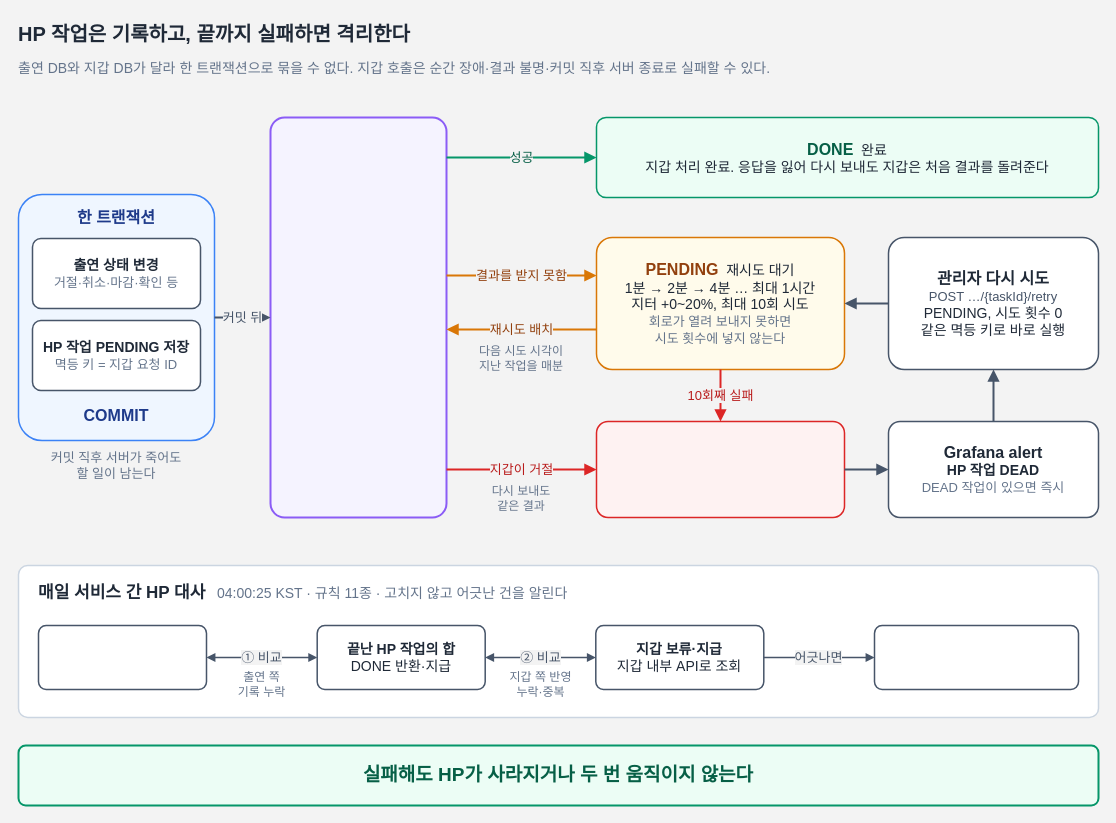
The diagram is 1116 pixels wide and 823 high, and some of its shapes have lost their labels. The shapes that lost their labels are listed below. From the top down, each one's centre as x and y in pixels, then its label:
At (x=358, y=317): "지갑 내부 API 호출 트랜잭션 밖에서 반환·지급·위약금 같은 요청 ID로".
At (x=720, y=469): "DEAD 격리 자동 실행을 멈춘다 [HP_TASK_DEAD] 오류 로그".
At (x=122, y=657): "출연 상태 요청서·모집글·출연".
At (x=976, y=657): "Grafana alert 서비스 간 HP 대사 불일치".
